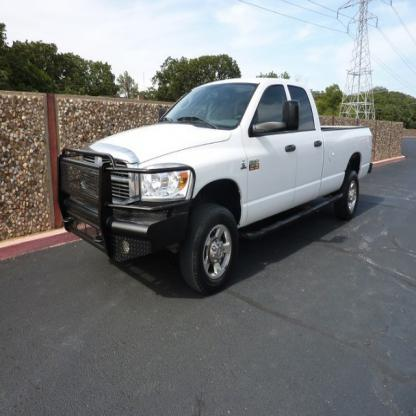Vehicle: (53, 76, 378, 302)
